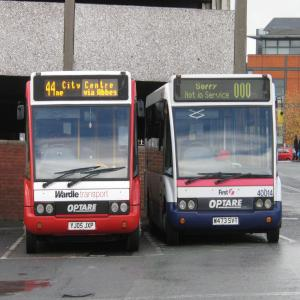Vehicle-registration-plate: (70, 222, 97, 230), (214, 217, 239, 225)
